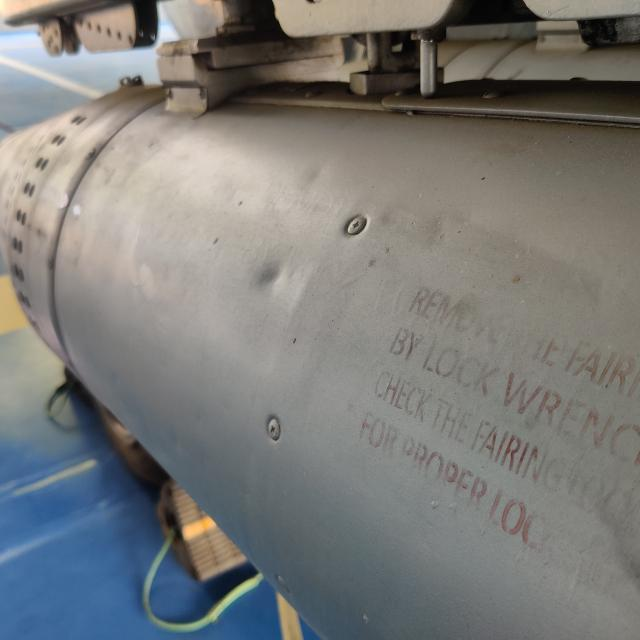dent: (241, 248, 298, 310)
